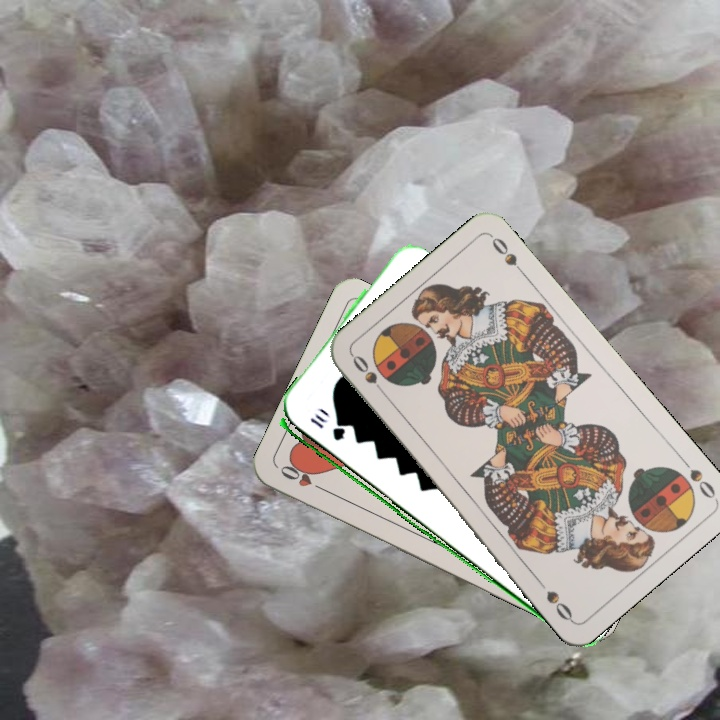G10: (306, 409, 347, 444)
HO: (275, 460, 331, 495)
SO: (348, 350, 391, 401), (676, 453, 718, 502)
